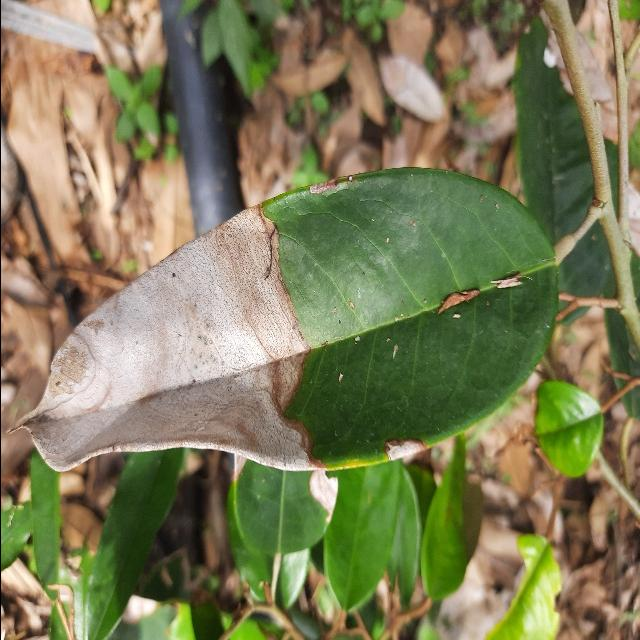Leaf Blight: (17, 155, 579, 482)
